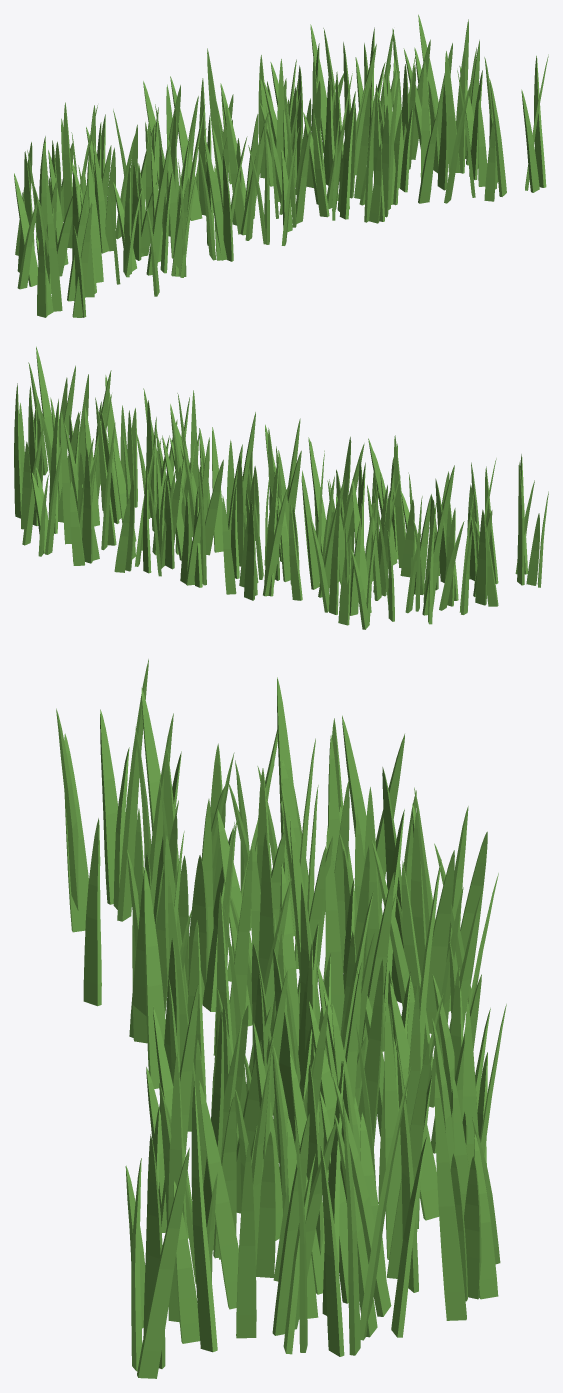
File: High grass 3.fbx
3 views of the same model, one above another, from view 1: azimuth 30°, elevation 25°; view 2: azimuth 150°, elevation 25°; view 3: azimuth 270°, elevation 25° (orthographic). The views are drawn at different scales.
Parts seen in each view (by area): view 1: High grass 3; view 2: High grass 3; view 3: High grass 3.
Part boxes in pixels (x1=…): High grass 3: x1=14, y1=14, x2=548, y2=317; High grass 3: x1=14, y1=346, x2=548, y2=629; High grass 3: x1=56, y1=659, x2=506, y2=1378.
Bounding box in the file's own units: 8.68 × 2.18 × 3.39.
